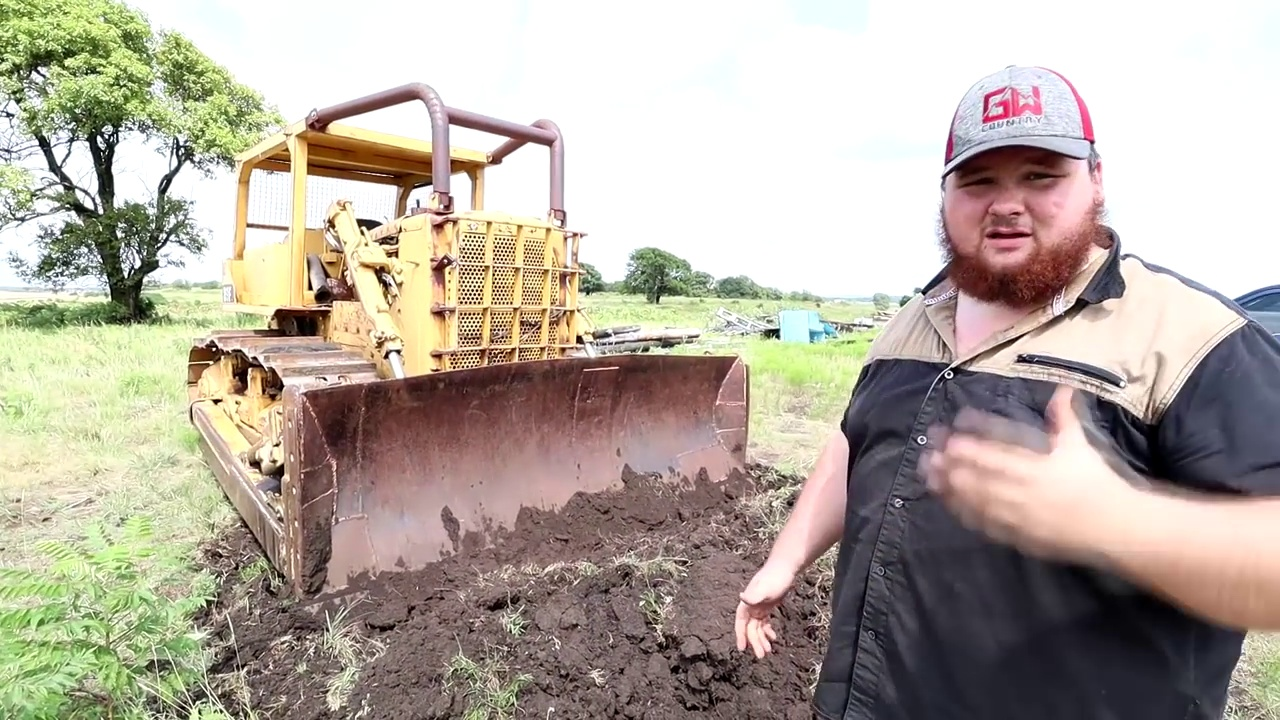bulldozer: (180, 80, 755, 591)
person: (737, 67, 1277, 717)
